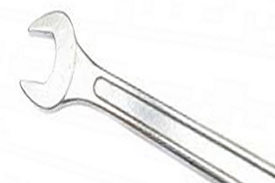Wrench: (17, 6, 275, 183)
